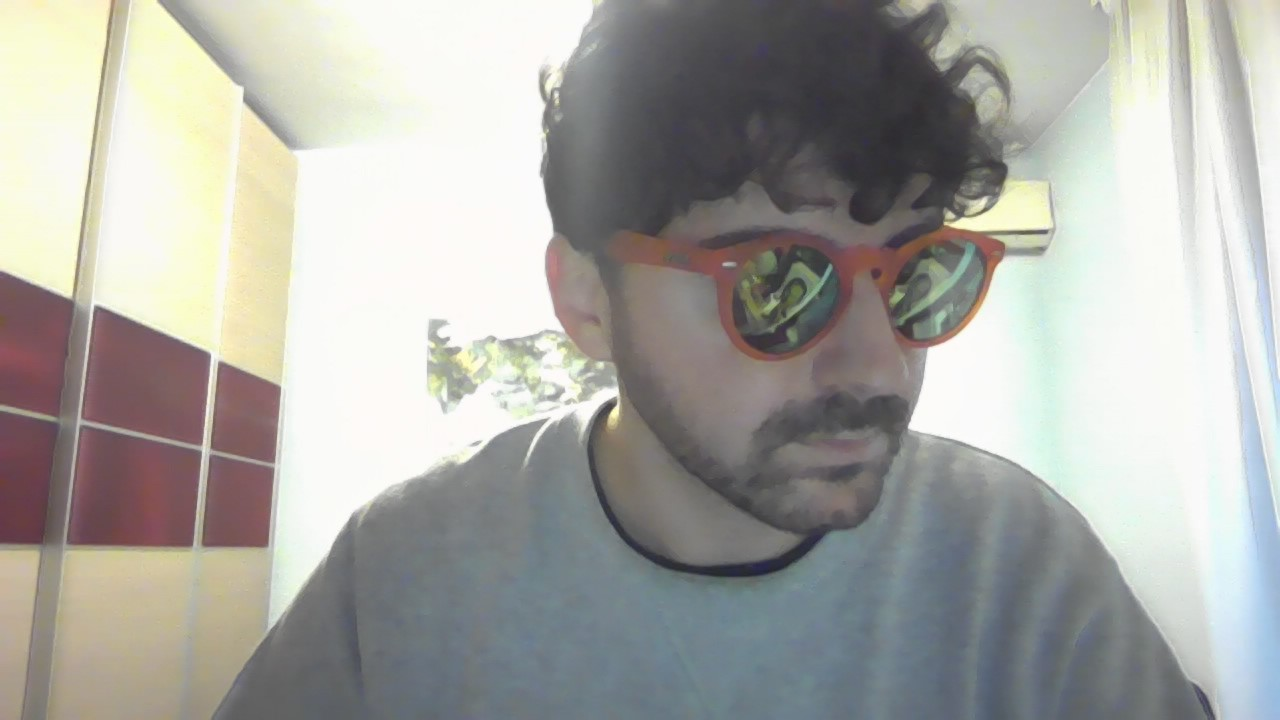Glasses: (538, 211, 1020, 360)
